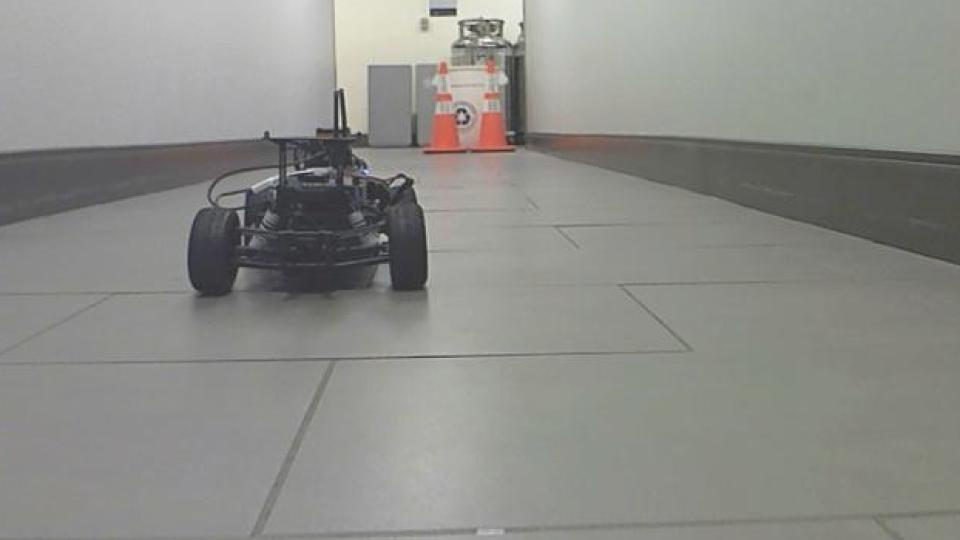car: (184, 88, 432, 299)
